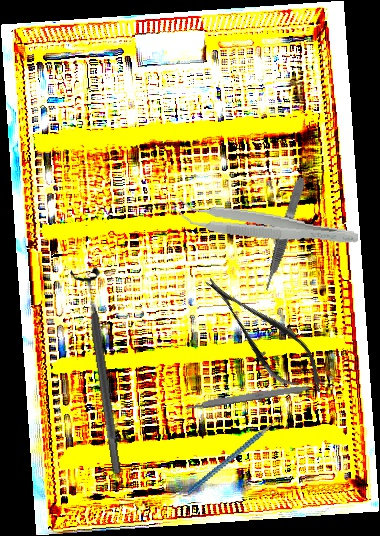Chopper: (170, 405, 302, 495)
Fixation Ring: (68, 265, 134, 477)
Micro Scissor: (192, 261, 337, 409)
Scalpel Handle: (185, 382, 313, 411)
Tissue Forceps: (175, 197, 361, 250), (260, 176, 308, 292)
